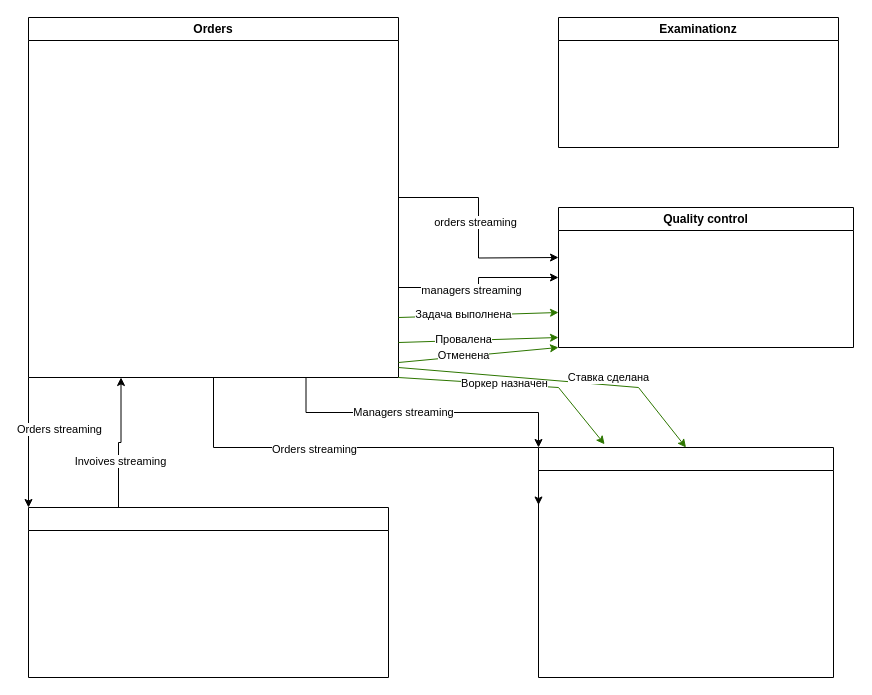
The diagram is 872 pixels wide and 695 high, and some of its shapes have lost their labels. The centre of each missing label's shape, as x and y in pixels:
"Billing" belongs at point 208,592.
"Totalizator" belongs at point 686,562.
